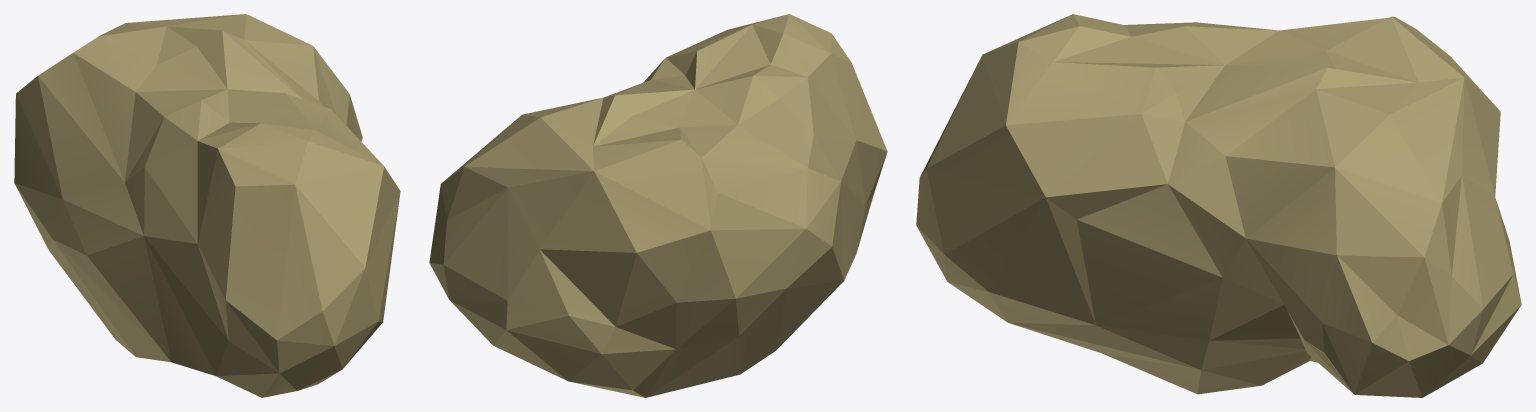
The model's file is SM_rock_10.fbx.
3 renders of one model, left to right at view 1: azimuth 30°, elevation 25°; view 2: azimuth 150°, elevation 25°; view 3: azimuth 270°, elevation 25°, orthographic. The views are drawn at different scales.
Visible parts, largest first — view 1: rock_10; view 2: rock_10; view 3: rock_10.
Boxes of the visible parts, x1=… form: rock_10: x1=14, y1=14, x2=400, y2=397; rock_10: x1=429, y1=14, x2=887, y2=397; rock_10: x1=916, y1=14, x2=1521, y2=397.
Size of the model in its own units: 167 by 135 by 223.
